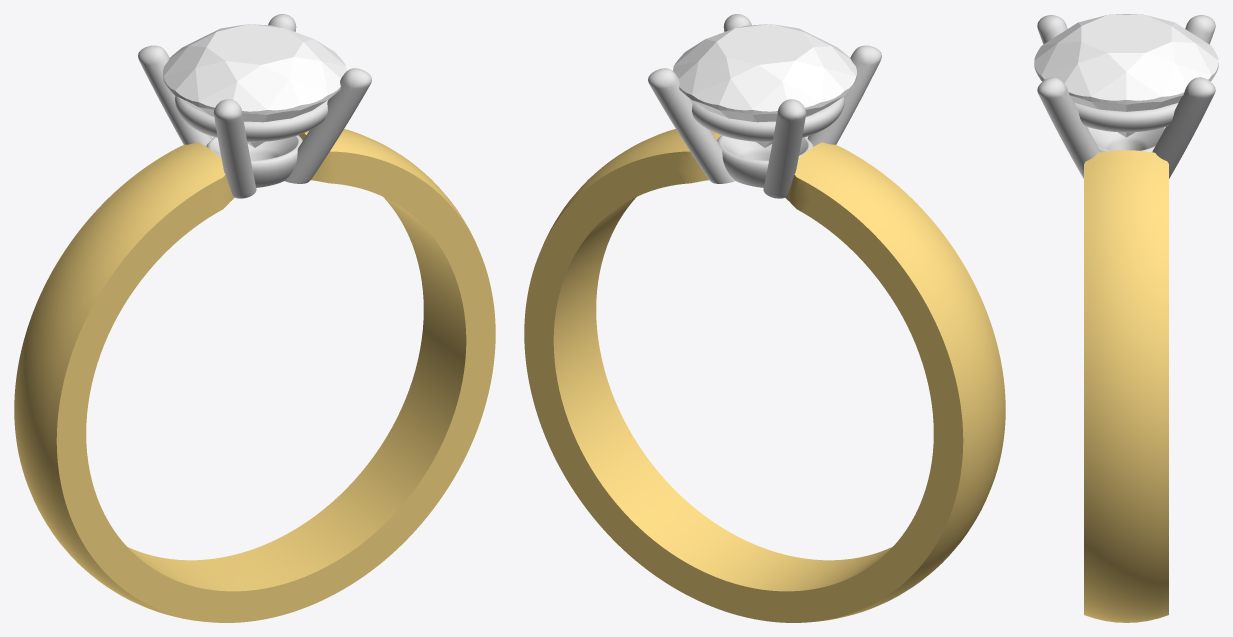
File: Beth2_webgi.glb
The picture shows the model from 3 angles, left to right: view 1: azimuth 30°, elevation 25°; view 2: azimuth 150°, elevation 25°; view 3: azimuth 270°, elevation 25°; orthographic projection.
Visible parts, largest first — view 1: beth_YG_for_3d_model, beth_dia_for_3d_model, beth_PT_head_2_for_3d_model; view 2: beth_YG_for_3d_model, beth_dia_for_3d_model, beth_PT_head_2_for_3d_model; view 3: beth_YG_for_3d_model, beth_dia_for_3d_model, beth_PT_head_2_for_3d_model.
Part boxes in pixels (left/top/right/bottom): beth_YG_for_3d_model: left=14, top=129, right=495, bottom=622; beth_dia_for_3d_model: left=163, top=24, right=346, bottom=147; beth_PT_head_2_for_3d_model: left=138, top=14, right=371, bottom=198; beth_YG_for_3d_model: left=524, top=129, right=1005, bottom=622; beth_dia_for_3d_model: left=673, top=24, right=856, bottom=147; beth_PT_head_2_for_3d_model: left=648, top=14, right=881, bottom=198; beth_YG_for_3d_model: left=1084, top=150, right=1168, bottom=622; beth_dia_for_3d_model: left=1034, top=14, right=1218, bottom=137; beth_PT_head_2_for_3d_model: left=1037, top=15, right=1215, bottom=178.
Size of the model in its own units: 2.51 by 2.99 by 0.8841.
